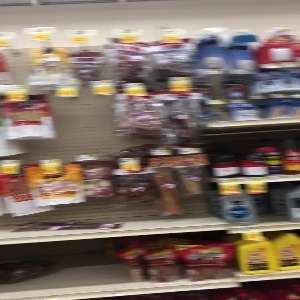void: (2, 237, 123, 300)
